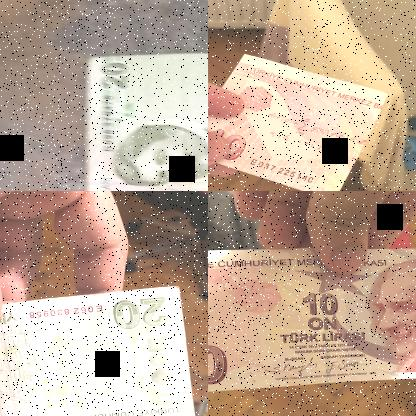5 TL: (78, 50, 207, 190)
